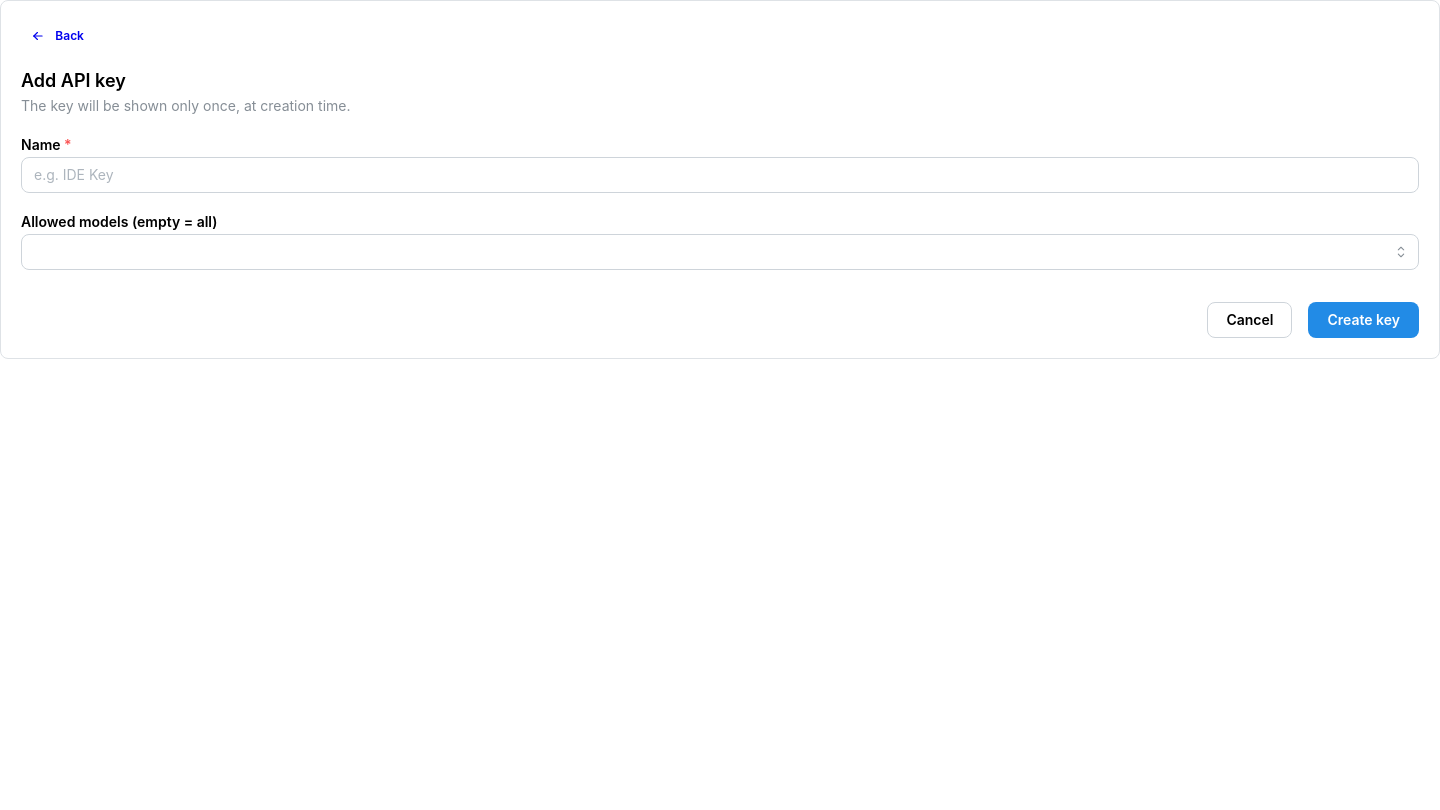
Test: AddKeyPage › creates the key and shows the full value exactly once
This screenshot has width=1440, height=810.
Type "  IDE key  " into the field labelled "Name *" at {"x": 720, "y": 175}, box [21,157,1419,193]
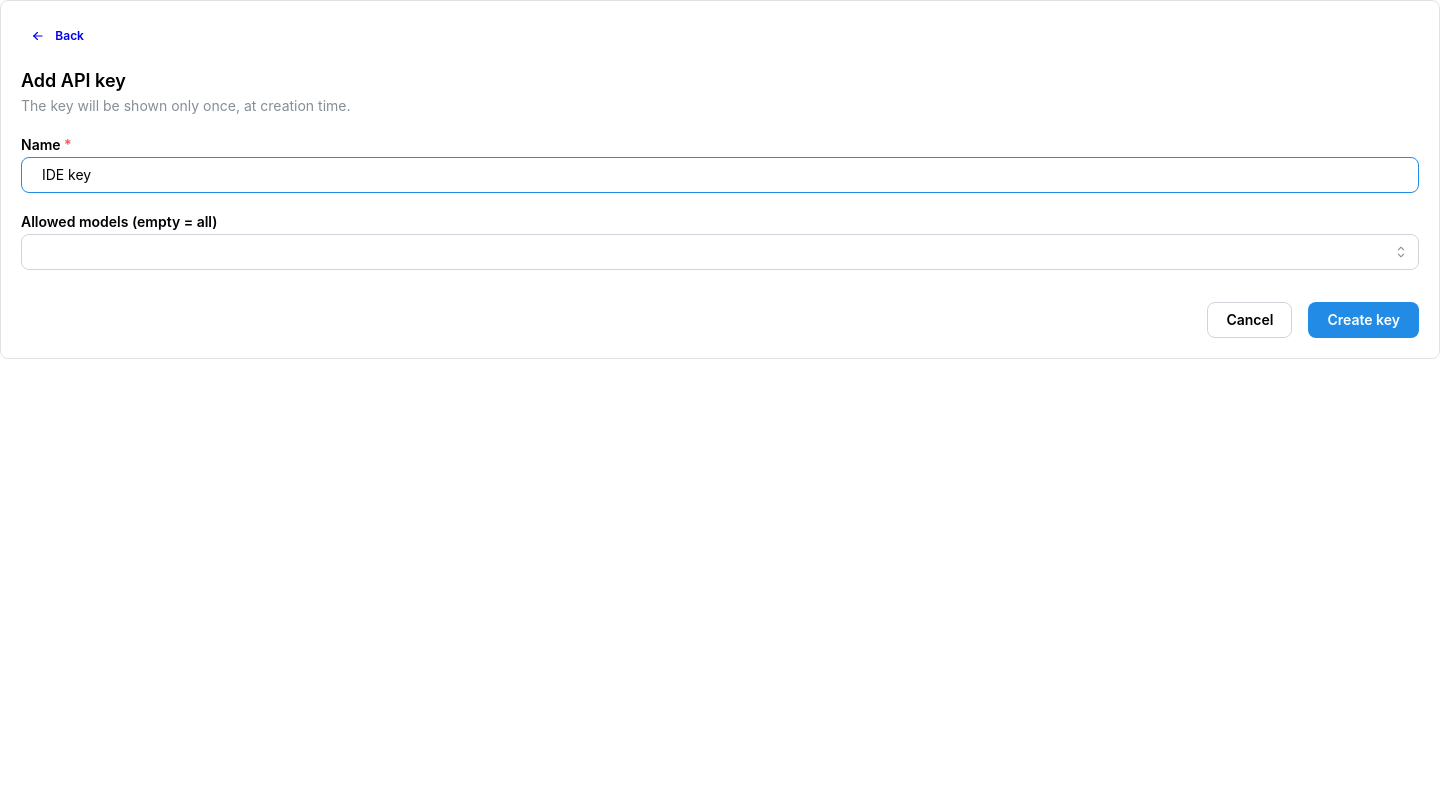
Click the button "Create key" at {"x": 1364, "y": 320}, box [1308,302,1419,338]
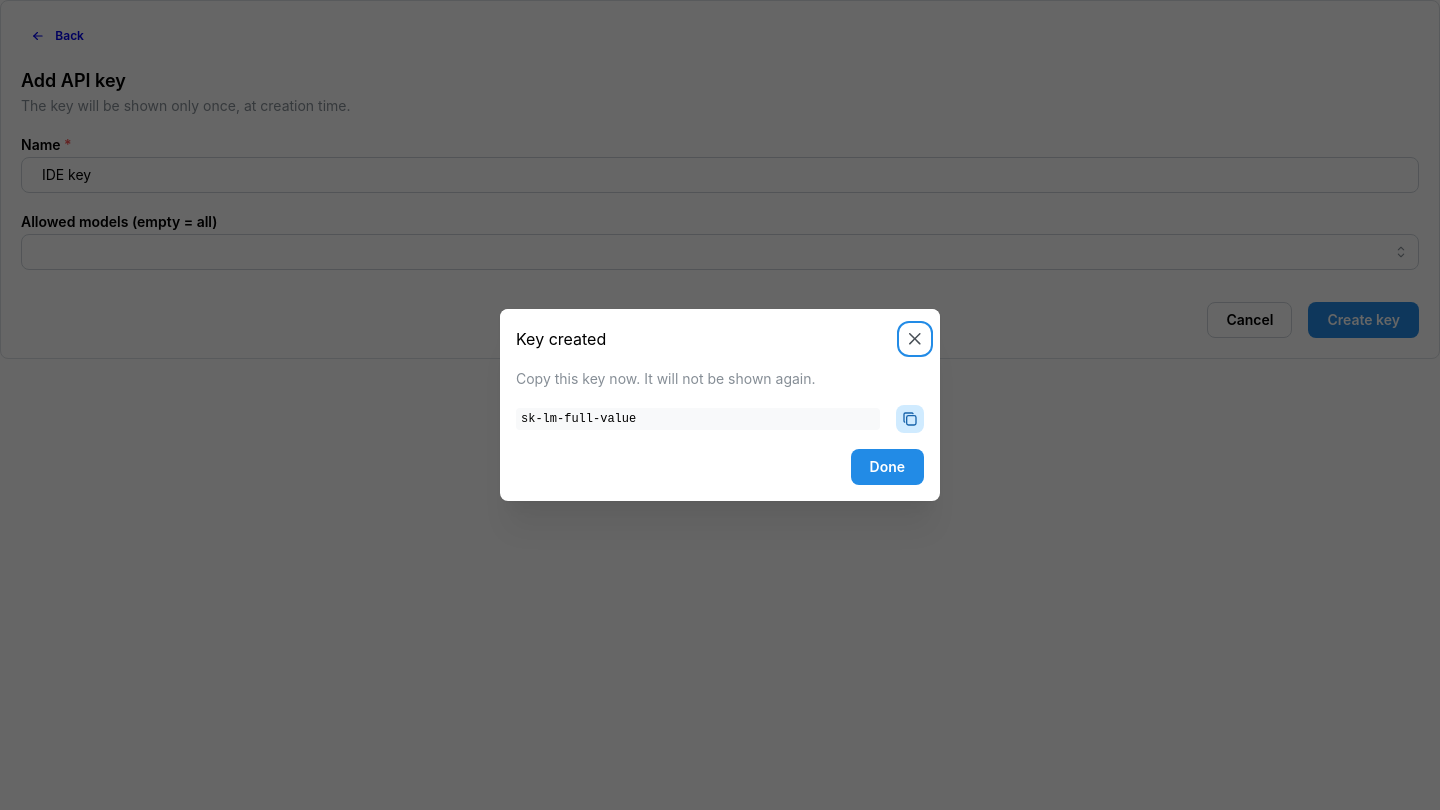
Expected: the text "sk-lm-full-value" is shown, [516,408,880,430]
